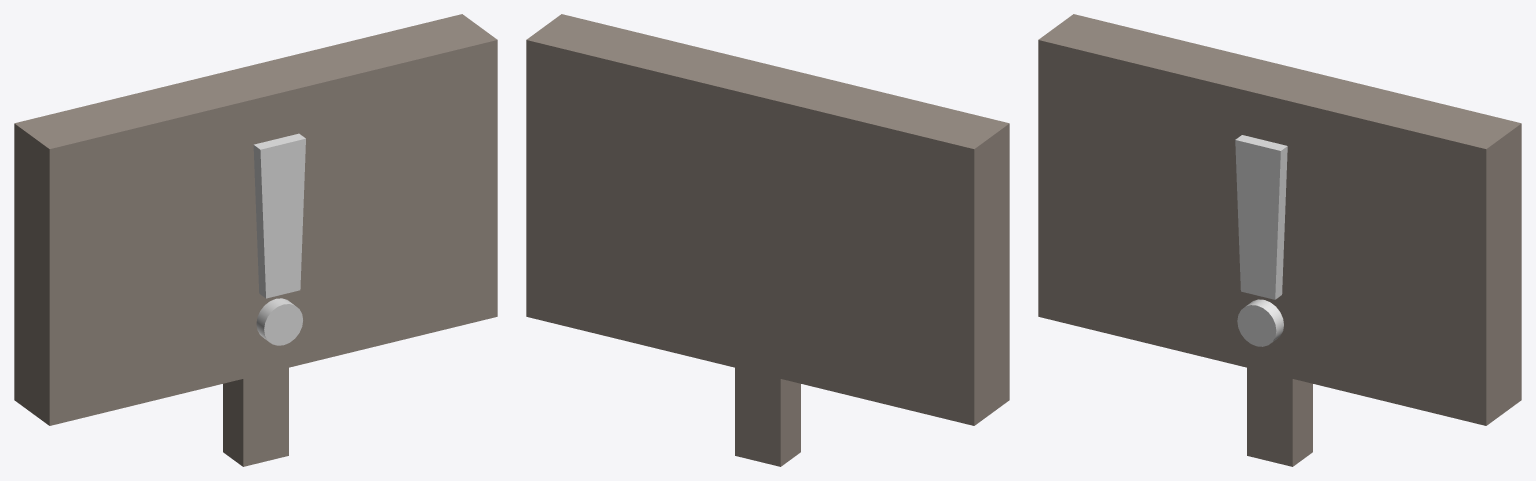
The model's file is sign.fbx.
3 renders of one model, left to right at view 1: azimuth 30°, elevation 25°; view 2: azimuth 150°, elevation 25°; view 3: azimuth 330°, elevation 25°, orthographic.
Parts seen in each view (by area): view 1: signShape; view 2: signShape; view 3: signShape.
Boxes of the visible parts, <box> form: signShape: <box>14,14,497,466</box>; signShape: <box>526,14,1009,466</box>; signShape: <box>1038,14,1521,466</box>.
Bounding box in the file's own units: 27.64 × 21.95 × 4.61.
